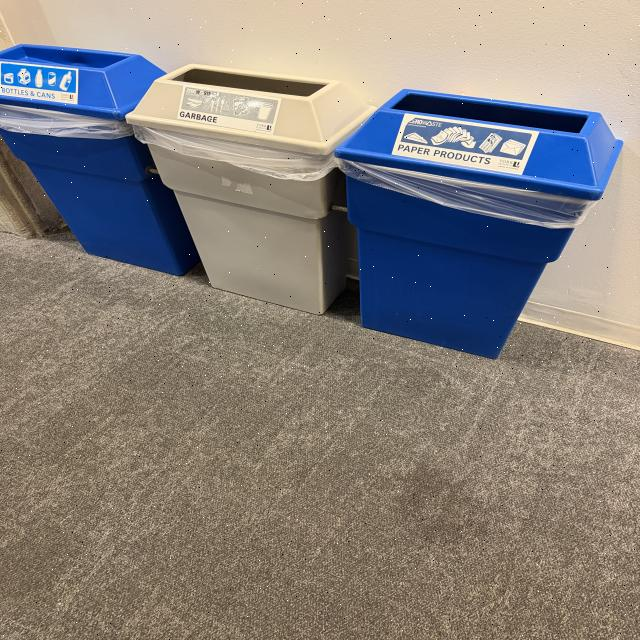Dustbin: (2, 40, 626, 361)
